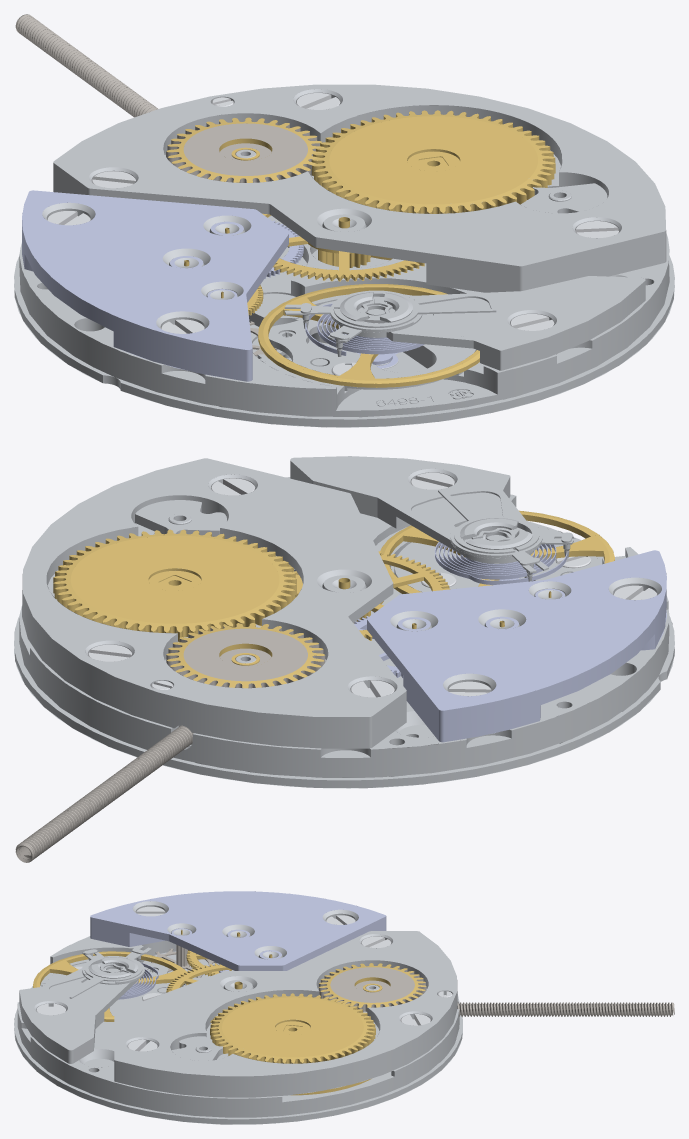
File: ETA6498-1_Web.glb
The picture shows the model from 3 angles, top to bottom: view 1: azimuth 30°, elevation 25°; view 2: azimuth 150°, elevation 25°; view 3: azimuth 270°, elevation 25°; orthographic projection. The views are drawn at different scales.
Parts seen in each view (by area): view 1: ETA 6498-1 Movement.IGS.021, ETA 6498-1 Movement.IGS, ETA 6498-1 Movement.IGS.017, ETA 6498-1 Movement.IGS.027, ETA 6498-1 Movement.IGS.036, ETA 6498-1 Movement.IGS.026, ETA 6498-1 Movement.IGS.037, ETA 6498-1 Movement.IGS.034, ETA 6498-1 Movement.IGS.014, ETA 6498-1 Movement.IGS.040, ETA 6498-1 Movement.IGS.011, ETA 6498-1 Movement.IGS.042 (+4 smaller); view 2: ETA 6498-1 Movement.IGS.021, ETA 6498-1 Movement.IGS.017, ETA 6498-1 Movement.IGS, ETA 6498-1 Movement.IGS.027, ETA 6498-1 Movement.IGS.036, ETA 6498-1 Movement.IGS.026, ETA 6498-1 Movement.IGS.037, ETA 6498-1 Movement.IGS.014, ETA 6498-1 Movement.IGS.040, ETA 6498-1 Movement.IGS.028, ETA 6498-1 Movement.IGS.034, ETA 6498-1 Movement.IGS.042 (+4 smaller); view 3: ETA 6498-1 Movement.IGS.021, ETA 6498-1 Movement.IGS, ETA 6498-1 Movement.IGS.017, ETA 6498-1 Movement.IGS.027, ETA 6498-1 Movement.IGS.036, ETA 6498-1 Movement.IGS.026, ETA 6498-1 Movement.IGS.014, ETA 6498-1 Movement.IGS.037, ETA 6498-1 Movement.IGS.040, ETA 6498-1 Movement.IGS.028, ETA 6498-1 Movement.IGS.042, ETA 6498-1 Movement.IGS.034 (+2 smaller).
Boxes of the visible parts, <box> form: ETA 6498-1 Movement.IGS.021: <box>53,84,666,292</box>; ETA 6498-1 Movement.IGS: <box>14,121,674,427</box>; ETA 6498-1 Movement.IGS.017: <box>22,190,288,381</box>; ETA 6498-1 Movement.IGS.027: <box>311,110,555,213</box>; ETA 6498-1 Movement.IGS.036: <box>339,276,645,370</box>; ETA 6498-1 Movement.IGS.026: <box>166,117,324,182</box>; ETA 6498-1 Movement.IGS.037: <box>258,284,479,387</box>; ETA 6498-1 Movement.IGS.034: <box>268,300,476,391</box>; ETA 6498-1 Movement.IGS.014: <box>15,14,157,117</box>; ETA 6498-1 Movement.IGS.040: <box>284,290,496,356</box>; ETA 6498-1 Movement.IGS.011: <box>262,213,424,281</box>; ETA 6498-1 Movement.IGS.042: <box>340,292,412,323</box>; ETA 6498-1 Movement.IGS.021: <box>22,458,406,748</box>; ETA 6498-1 Movement.IGS.017: <box>367,550,666,742</box>; ETA 6498-1 Movement.IGS: <box>14,477,674,788</box>; ETA 6498-1 Movement.IGS.027: <box>53,529,296,641</box>; ETA 6498-1 Movement.IGS.036: <box>290,456,533,563</box>; ETA 6498-1 Movement.IGS.026: <box>166,623,325,688</box>; ETA 6498-1 Movement.IGS.037: <box>380,510,614,593</box>; ETA 6498-1 Movement.IGS.014: <box>15,725,193,862</box>; ETA 6498-1 Movement.IGS.040: <box>438,489,573,581</box>; ETA 6498-1 Movement.IGS.028: <box>135,500,226,536</box>; ETA 6498-1 Movement.IGS.034: <box>394,526,598,592</box>; ETA 6498-1 Movement.IGS.042: <box>460,518,532,549</box>; ETA 6498-1 Movement.IGS.021: <box>114,931,457,1097</box>; ETA 6498-1 Movement.IGS: <box>14,936,462,1124</box>; ETA 6498-1 Movement.IGS.017: <box>90,891,386,970</box>; ETA 6498-1 Movement.IGS.027: <box>210,993,375,1063</box>; ETA 6498-1 Movement.IGS.036: <box>19,962,138,1063</box>; ETA 6498-1 Movement.IGS.026: <box>318,963,426,1012</box>; ETA 6498-1 Movement.IGS.014: <box>457,1002,674,1016</box>; ETA 6498-1 Movement.IGS.037: <box>33,951,187,1021</box>; ETA 6498-1 Movement.IGS.040: <box>69,945,151,998</box>; ETA 6498-1 Movement.IGS.028: <box>171,1036,223,1060</box>; ETA 6498-1 Movement.IGS.042: <box>88,957,138,978</box>; ETA 6498-1 Movement.IGS.034: <box>45,963,170,1015</box>.
Size of the model in its own units: 0.0372 by 0.00593 by 0.0547.
